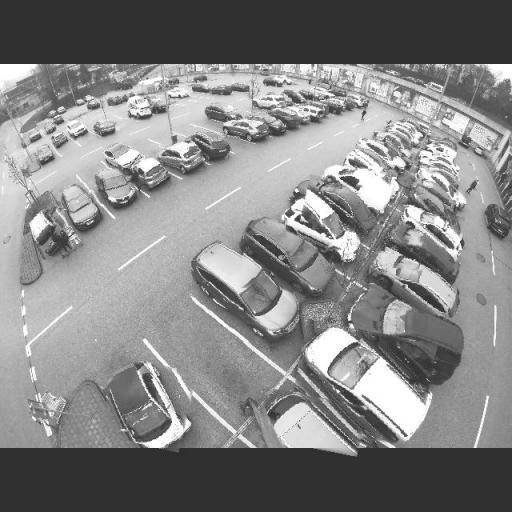busy: (291, 325, 434, 443), (344, 285, 467, 387), (191, 241, 297, 343), (103, 359, 193, 449), (242, 219, 334, 293), (259, 392, 365, 453), (368, 253, 459, 315), (284, 192, 356, 254), (302, 178, 382, 233), (384, 226, 460, 273), (321, 163, 391, 208), (397, 208, 464, 248), (29, 203, 70, 259), (58, 182, 102, 229), (91, 166, 138, 208), (405, 189, 459, 224), (159, 142, 204, 174), (416, 170, 462, 200), (132, 158, 172, 190), (354, 139, 398, 168), (103, 140, 145, 169), (190, 131, 231, 159), (227, 118, 266, 142), (376, 133, 414, 157), (248, 111, 283, 134), (273, 107, 306, 127), (205, 104, 240, 122), (127, 99, 153, 122), (258, 91, 288, 109), (92, 119, 121, 137), (296, 102, 326, 119), (36, 145, 60, 165), (317, 98, 344, 114), (346, 92, 370, 108), (67, 120, 88, 138), (284, 91, 308, 106), (146, 95, 168, 111), (106, 91, 129, 106), (168, 86, 189, 100), (262, 76, 288, 87), (27, 130, 43, 144), (54, 131, 71, 144), (88, 97, 102, 109), (44, 122, 58, 134)
free: (178, 333, 236, 379), (48, 182, 82, 197), (222, 135, 242, 151), (57, 142, 76, 156), (116, 116, 136, 129), (84, 167, 102, 180), (76, 134, 94, 146), (202, 119, 218, 132), (139, 144, 159, 154), (179, 124, 197, 135), (162, 132, 179, 143), (242, 105, 258, 114)
